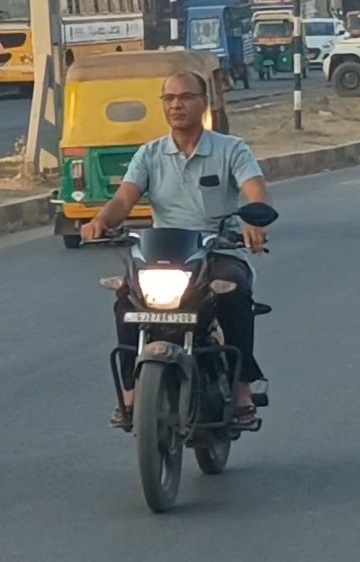BikeWithRider: (73, 63, 284, 519)
NoHelmet: (151, 64, 216, 136)
